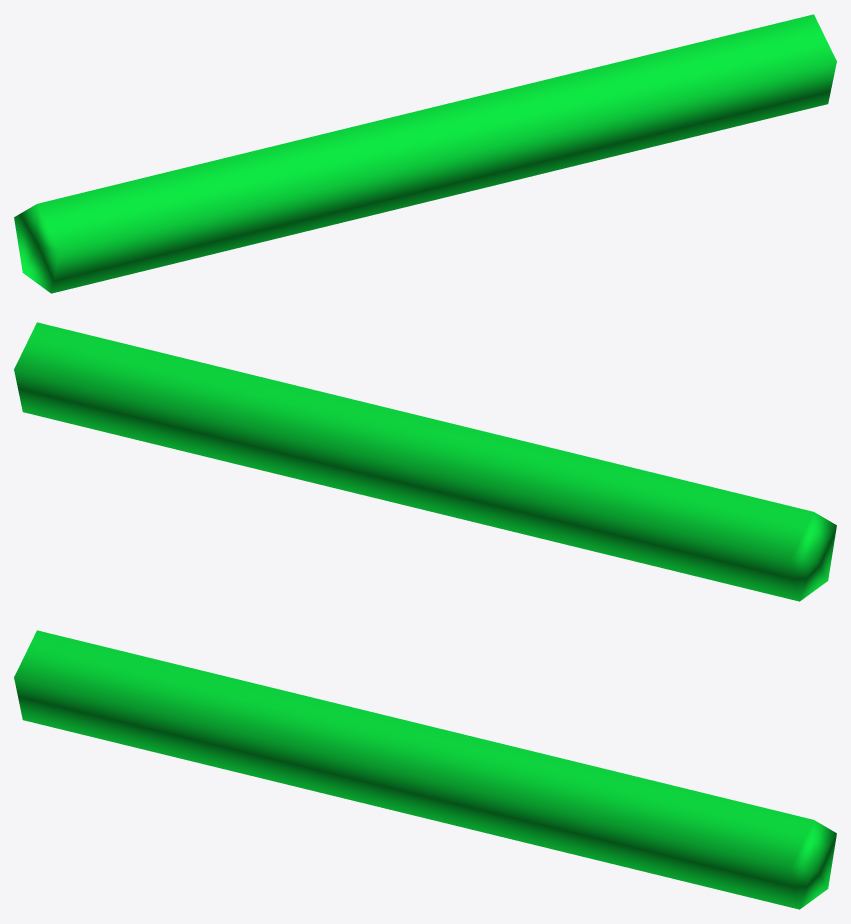
Rendered from Pipe_Metal_A.fbx.
3 renders of one model, top to bottom at view 1: azimuth 30°, elevation 25°; view 2: azimuth 150°, elevation 25°; view 3: azimuth 330°, elevation 25°, orthographic.
Visible parts, largest first — view 1: Pipe_Metal_A; view 2: Pipe_Metal_A; view 3: Pipe_Metal_A.
Part boxes in pixels (x1,y1,x2,y2): Pipe_Metal_A: [14, 14, 836, 293]; Pipe_Metal_A: [14, 322, 836, 601]; Pipe_Metal_A: [14, 630, 836, 909].
Bounding box in the file's own units: 2.08 × 0.2028 × 0.2133.
